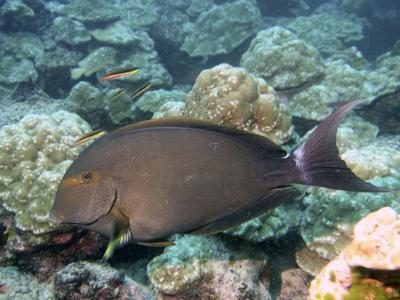Acanthuridae -Surgeonfishes-: (46, 90, 380, 263)
